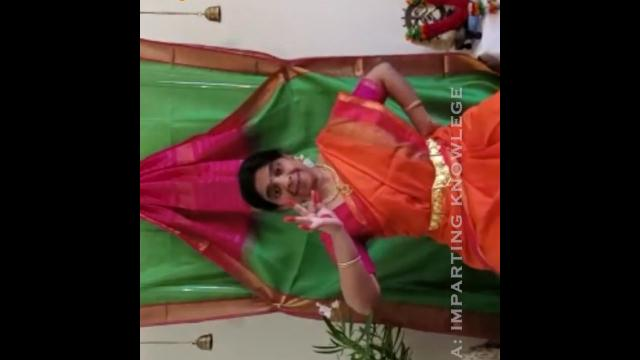hansaasya: (280, 182, 354, 242)
